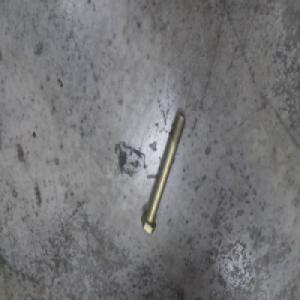Bolt: (142, 112, 187, 234)
